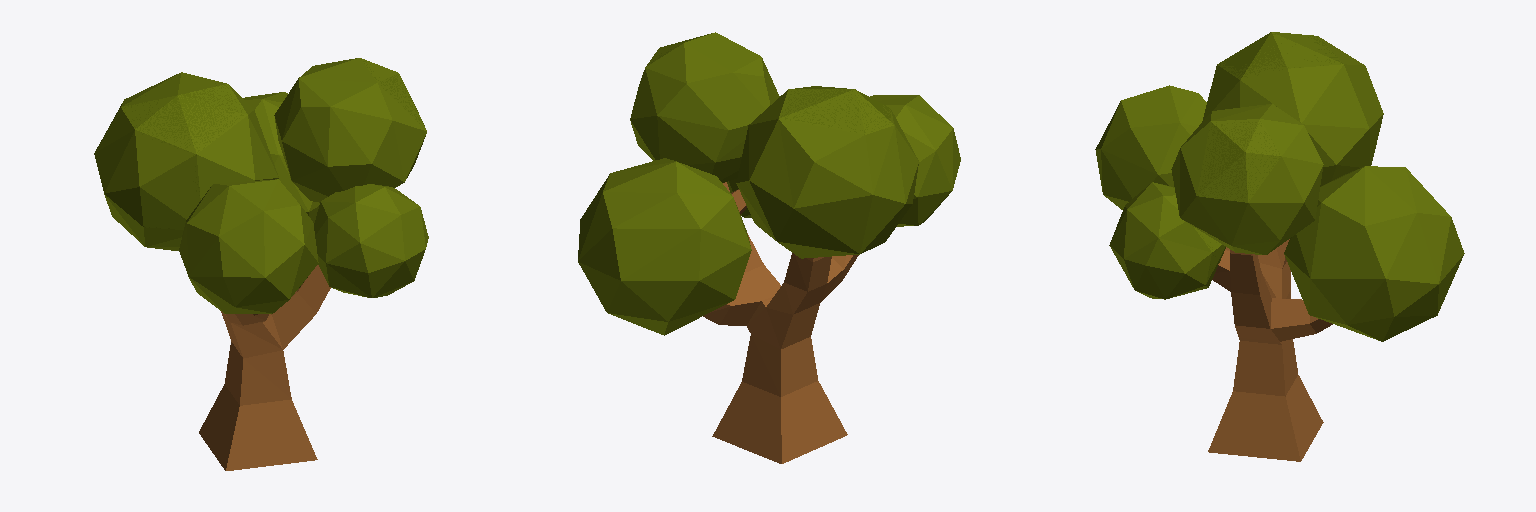
The model's file is tree1.obj.
3 views of the same model, side by side, from view 1: azimuth 30°, elevation 25°; view 2: azimuth 150°, elevation 25°; view 3: azimuth 270°, elevation 25° (orthographic).
Size of the model in its own units: 138 by 167 by 152.